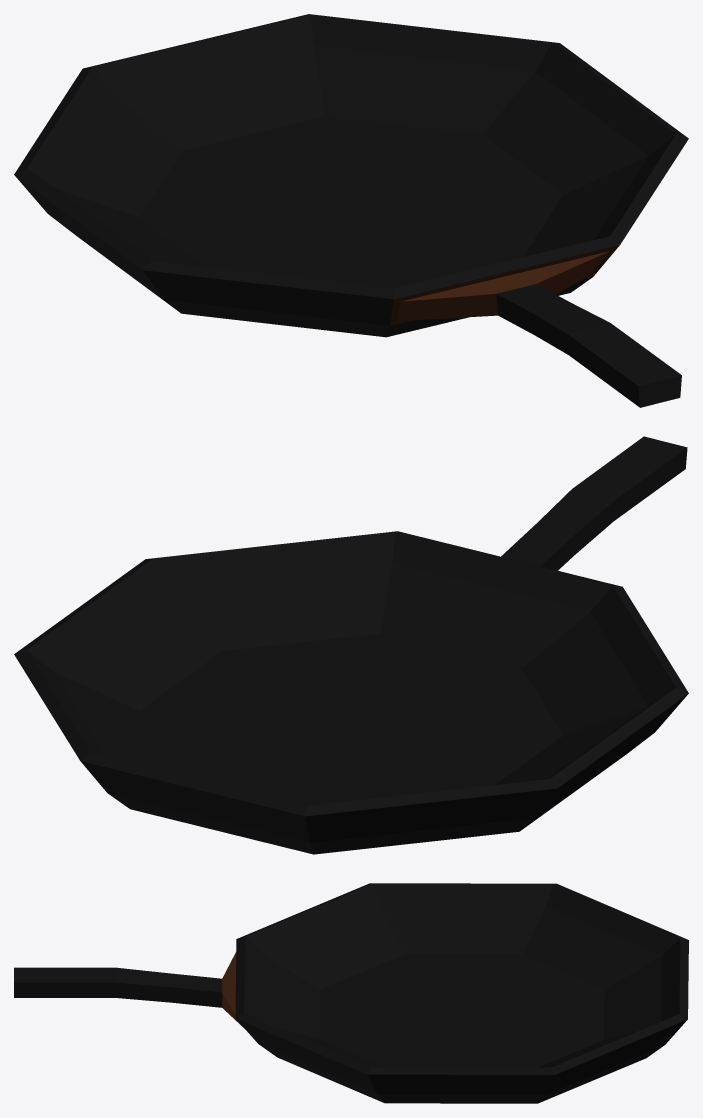
The model's file is FryingPan_FBX.fbx.
3 views of the same model, one above another, from view 1: azimuth 30°, elevation 25°; view 2: azimuth 150°, elevation 25°; view 3: azimuth 270°, elevation 25° (orthographic). The views are drawn at different scales.
Parts seen in each view (by area): view 1: Frying_Pan; view 2: Frying_Pan; view 3: Frying_Pan.
Boxes of the visible parts, bbox=[...] form: Frying_Pan: bbox=[14, 14, 688, 407]; Frying_Pan: bbox=[14, 436, 688, 854]; Frying_Pan: bbox=[14, 883, 688, 1103].
Size of the model in its own units: 19.2 by 2.34 by 28.58.
